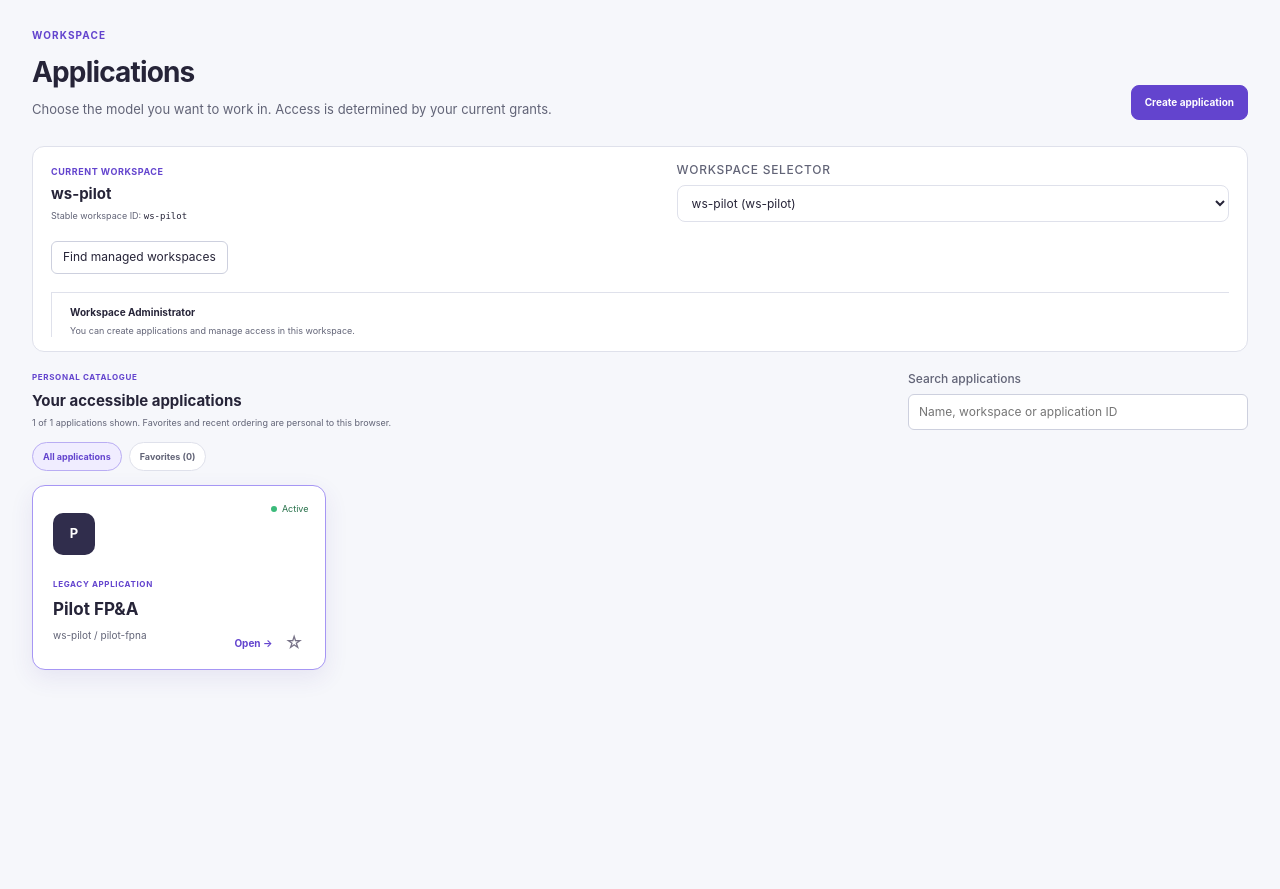
Test: invalidates approval when a reviewed field changes
Click the button "Create application" at (1189, 102), box [1131,84,1248,120]
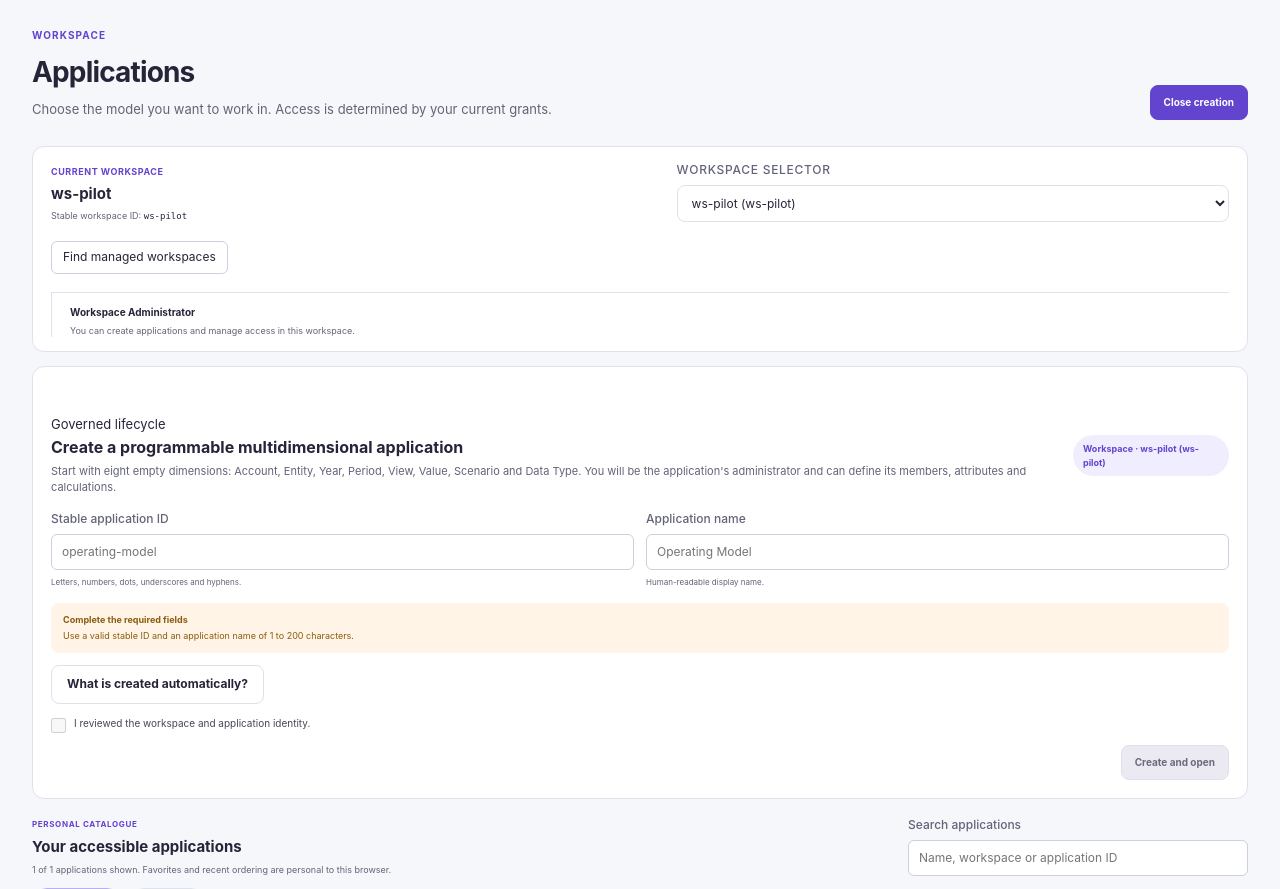
Type "plan-2027" into the field labelled "Stable application ID" at (342, 552), box [51,534,634,570]
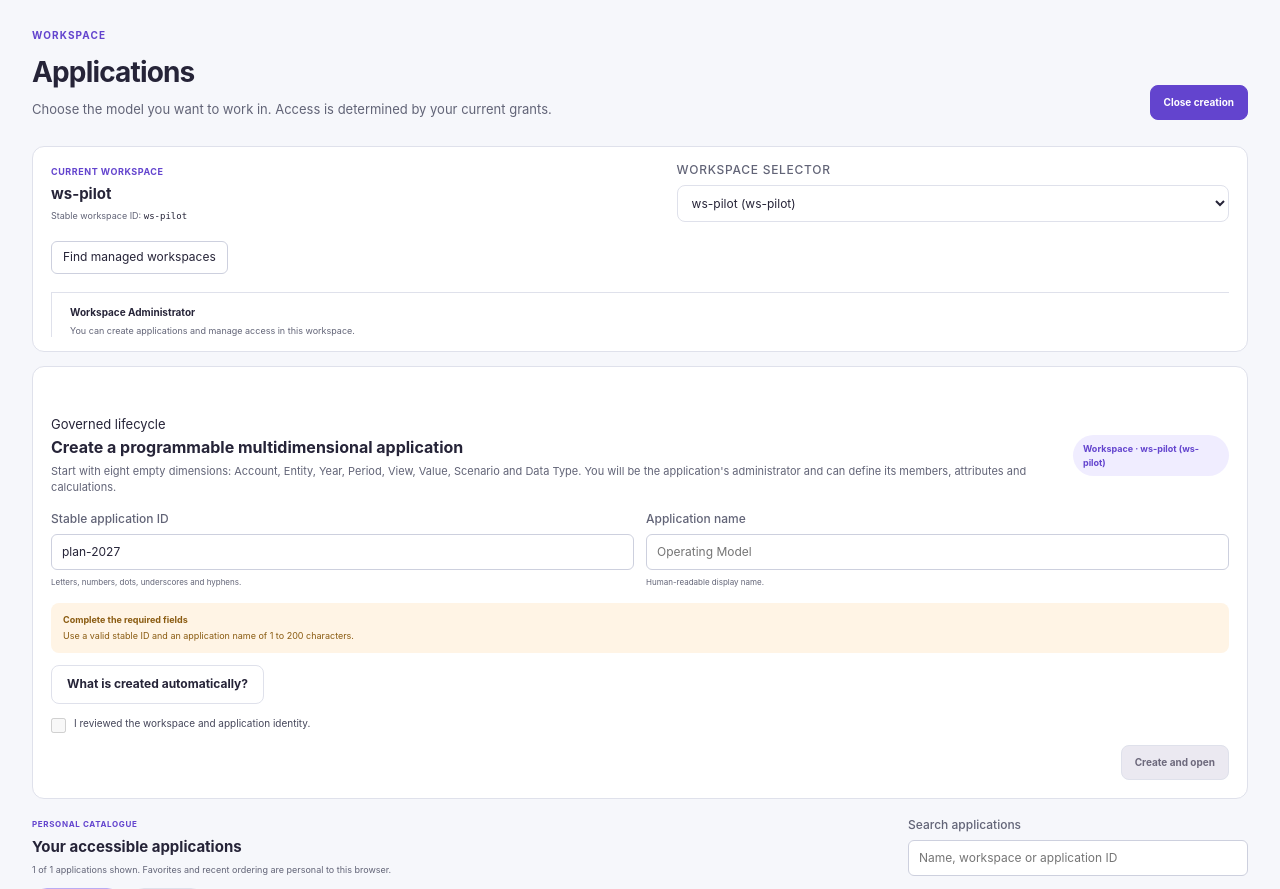
Type "Plan 2027" into the field labelled "Application name" at (938, 552), box [646,534,1229,570]
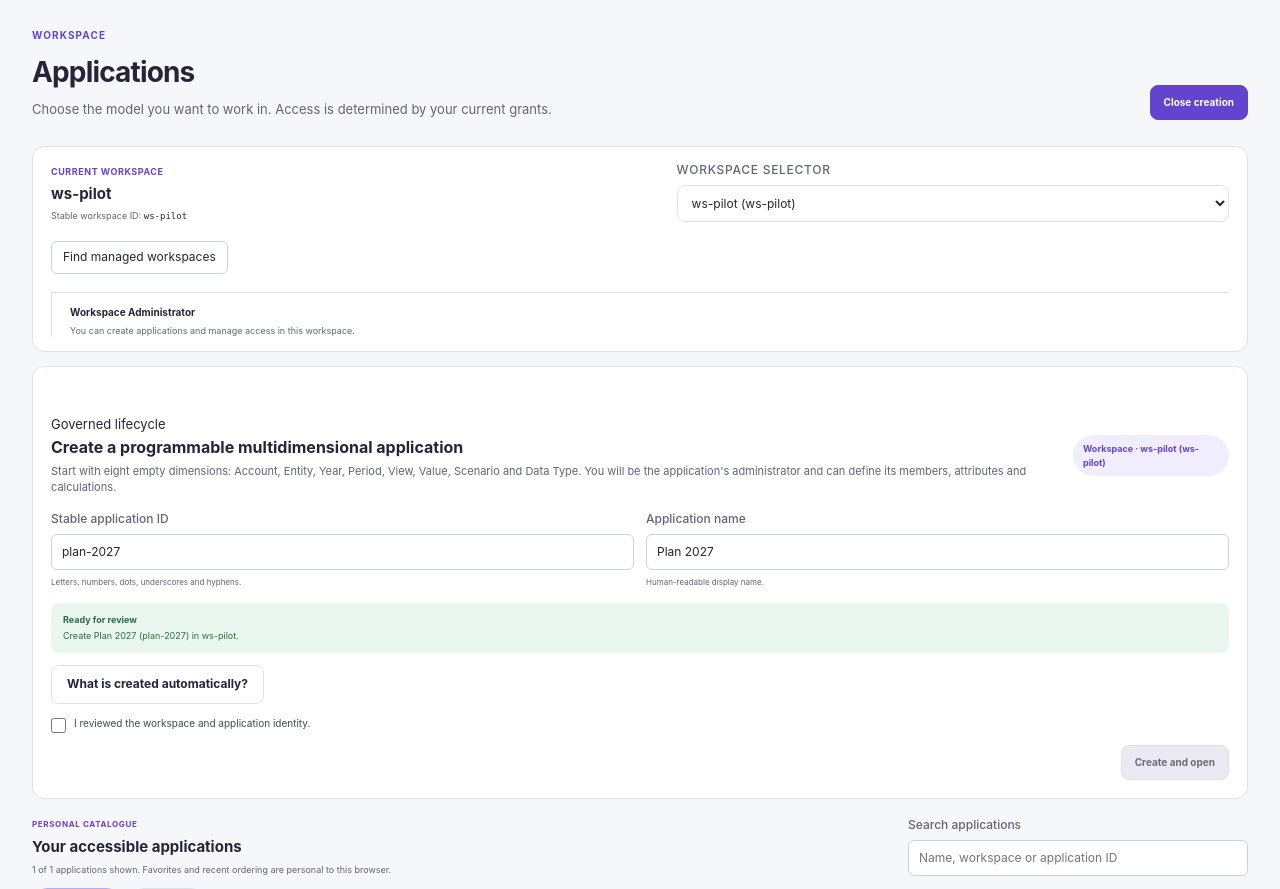
Click the checkbox labelled "I reviewed the workspace and application identity." at (58, 725), box [51,718,66,733]
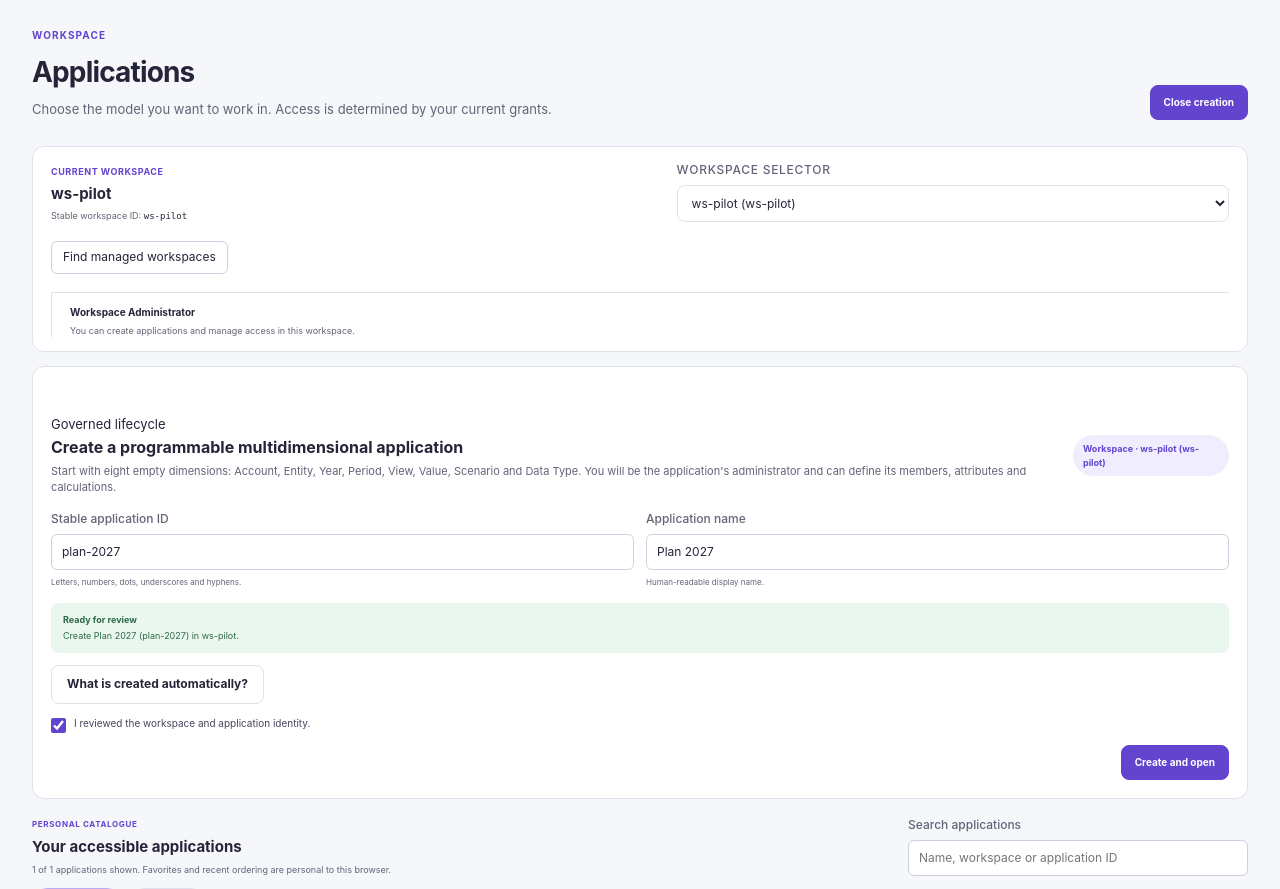
Expected: the checkbox labelled "I reviewed the workspace and application identity." is checked, [51,718,66,733]
Replace the text in the field labelled "Stable application ID" with "plan-2028" at (342, 552), box [51,534,634,570]
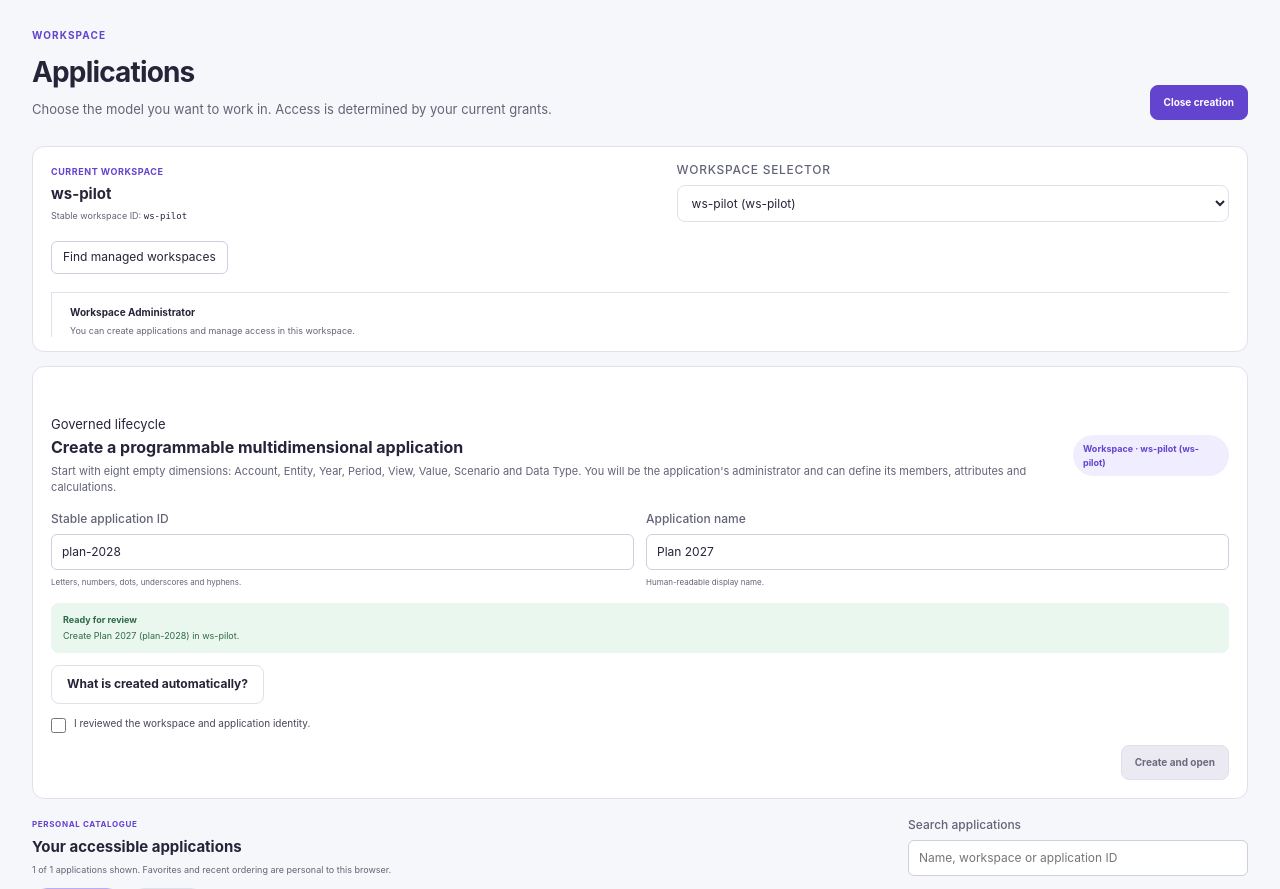
Expected: the checkbox labelled "I reviewed the workspace and application identity." is not checked, [51,718,66,733]
Expected: the button "Create and open" is disabled, [1121,745,1229,780]
